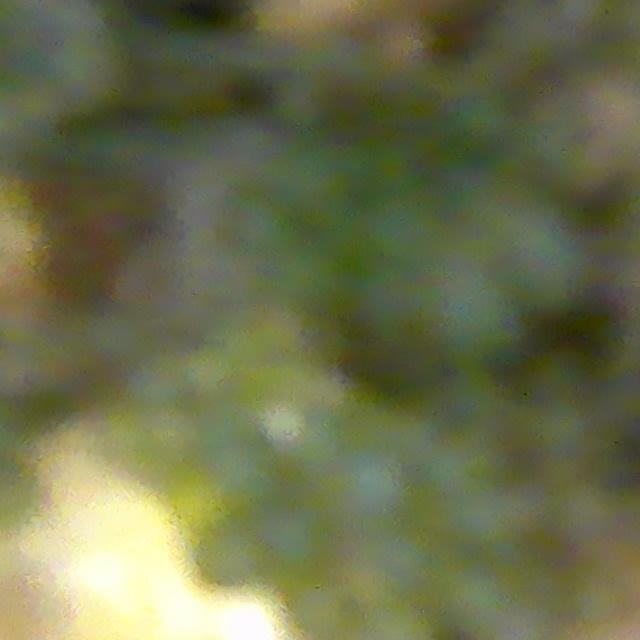SeaGrape: (332, 445, 417, 528)
